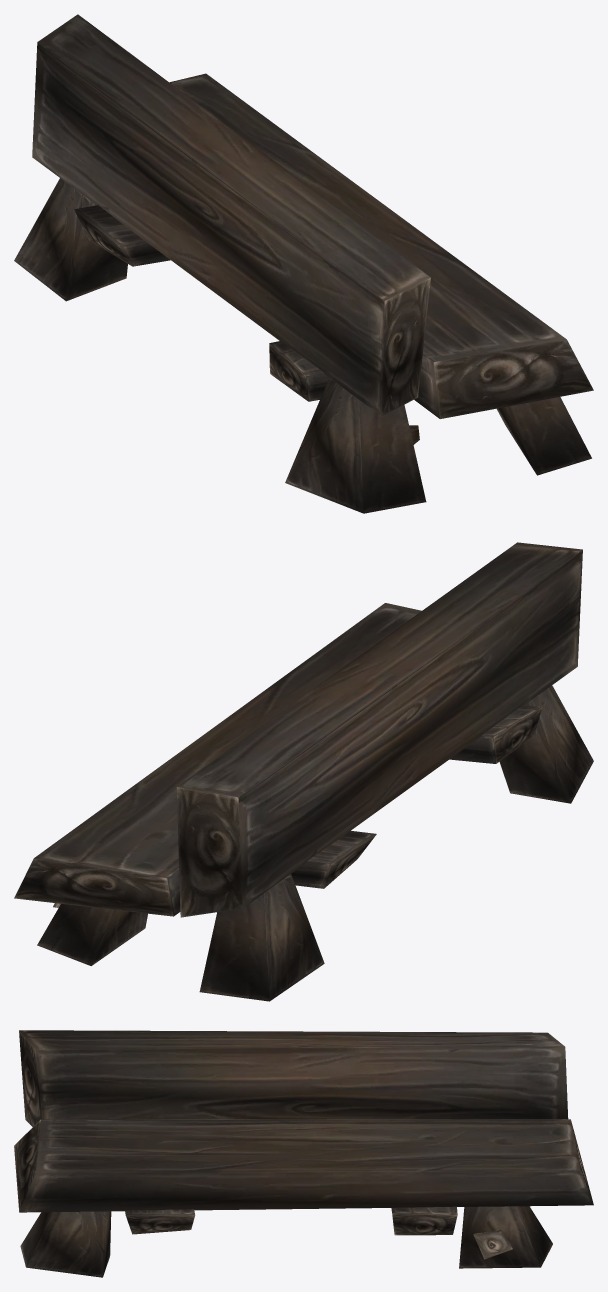
The picture shows the model from 3 angles, top to bottom: view 1: azimuth 30°, elevation 25°; view 2: azimuth 150°, elevation 25°; view 3: azimuth 270°, elevation 25°; orthographic projection. The views are drawn at different scales.
Size of the model in its own units: 1.53 by 1.13 by 3.61.
1 material, 1 textured.
